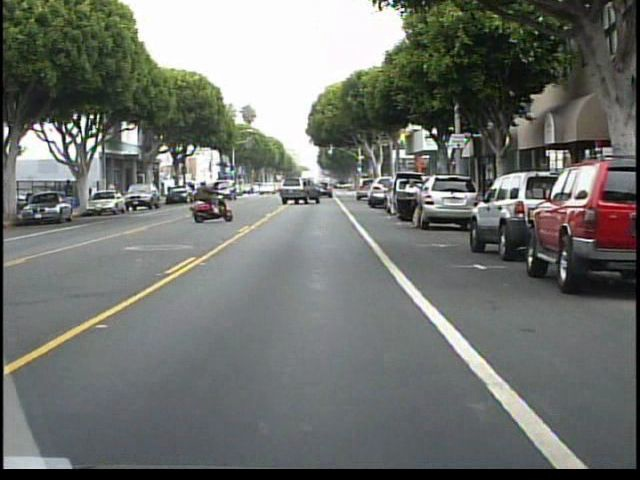person: (401, 171, 430, 234), (185, 175, 215, 217), (61, 175, 78, 211)
